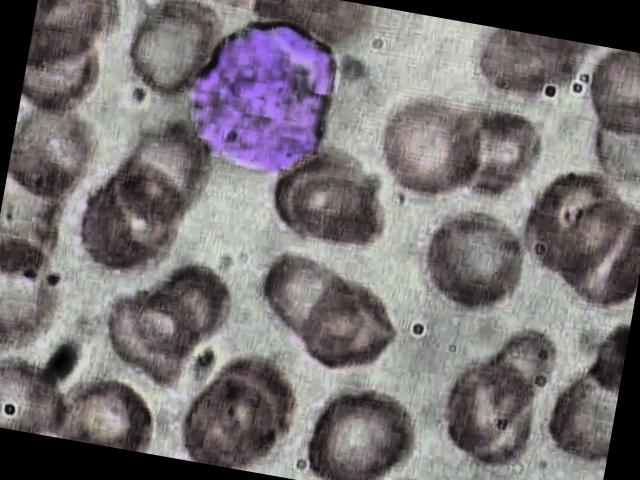RBC: (69, 154, 194, 282), (514, 160, 638, 288), (406, 202, 537, 320), (96, 115, 218, 234), (250, 246, 376, 360), (372, 90, 490, 210), (296, 373, 428, 480), (109, 0, 228, 109), (92, 283, 206, 396), (290, 272, 404, 385), (433, 362, 547, 475), (172, 367, 288, 474), (3, 89, 108, 207), (442, 103, 548, 208), (284, 170, 396, 258), (0, 233, 75, 363), (51, 368, 162, 453), (0, 353, 75, 438)
WBC: (176, 3, 358, 184)
